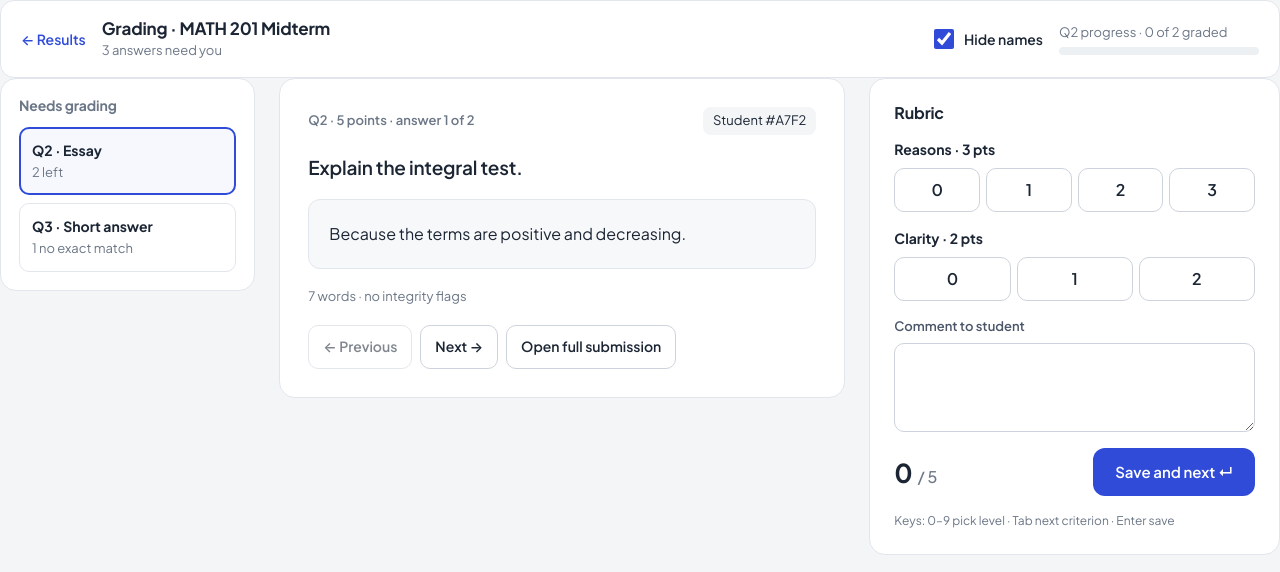
Test: GradingPage › hides names by default and can show them
The image size is (1280, 572).
Expected: the text "Student #A7F2" is shown, [703,107,816,134]
Expected: the text "Alice Chen" is not shown
Step 1. Click the checkbox labelled "Hide names" → coordinates (944, 39), box [934,29,954,49]
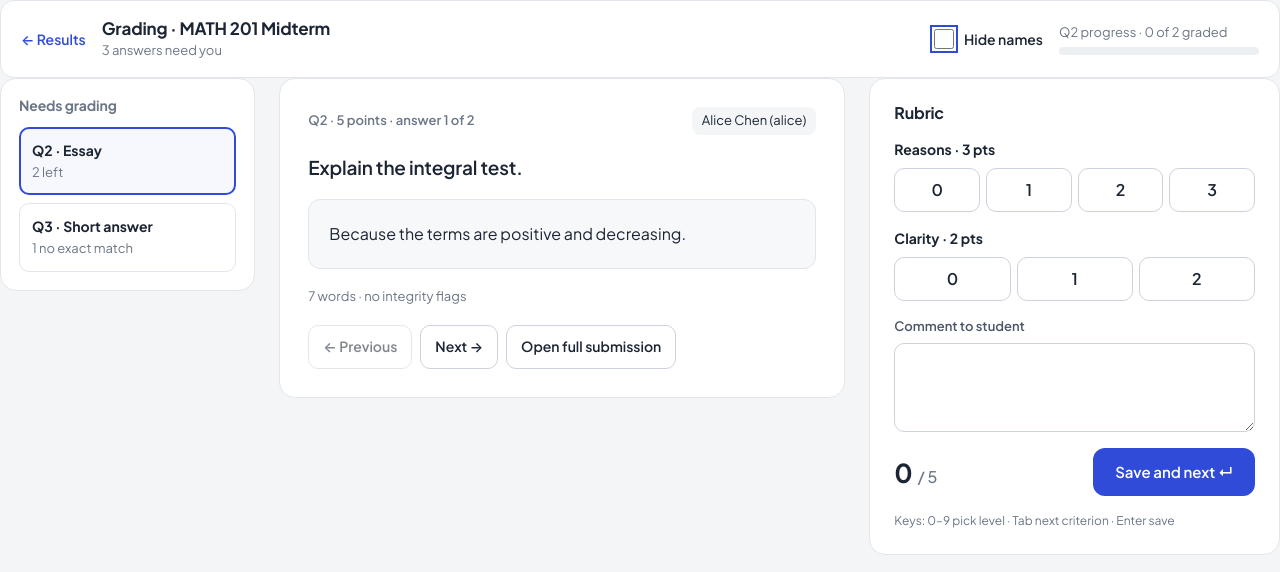
Expected: the text "Alice Chen (alice)" is shown, [692,107,816,134]
